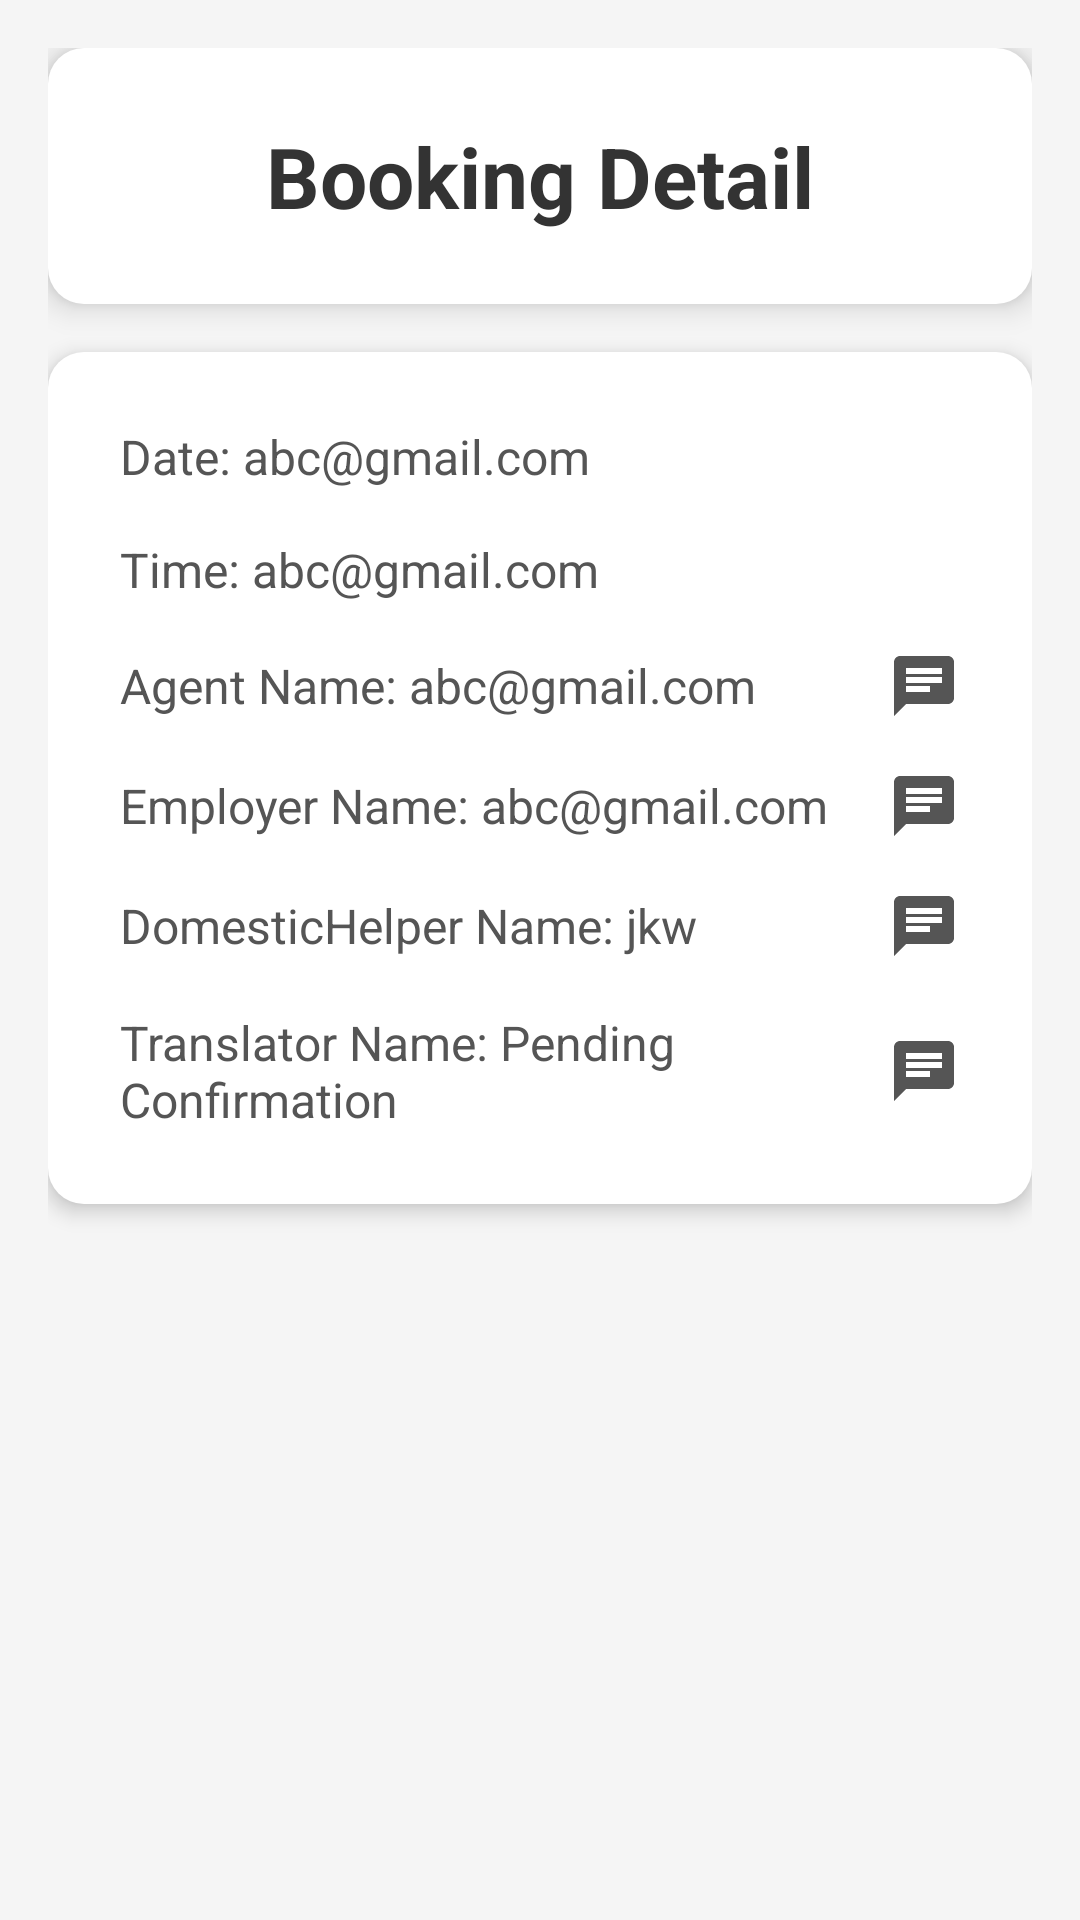

Where to tap for icons on this 1080px×1920px app screen, as point (x, y):
chat to Employer: point (924, 686), point (924, 806)
chat to Helper: point (924, 926)
chat to Translator: point (924, 1071)
